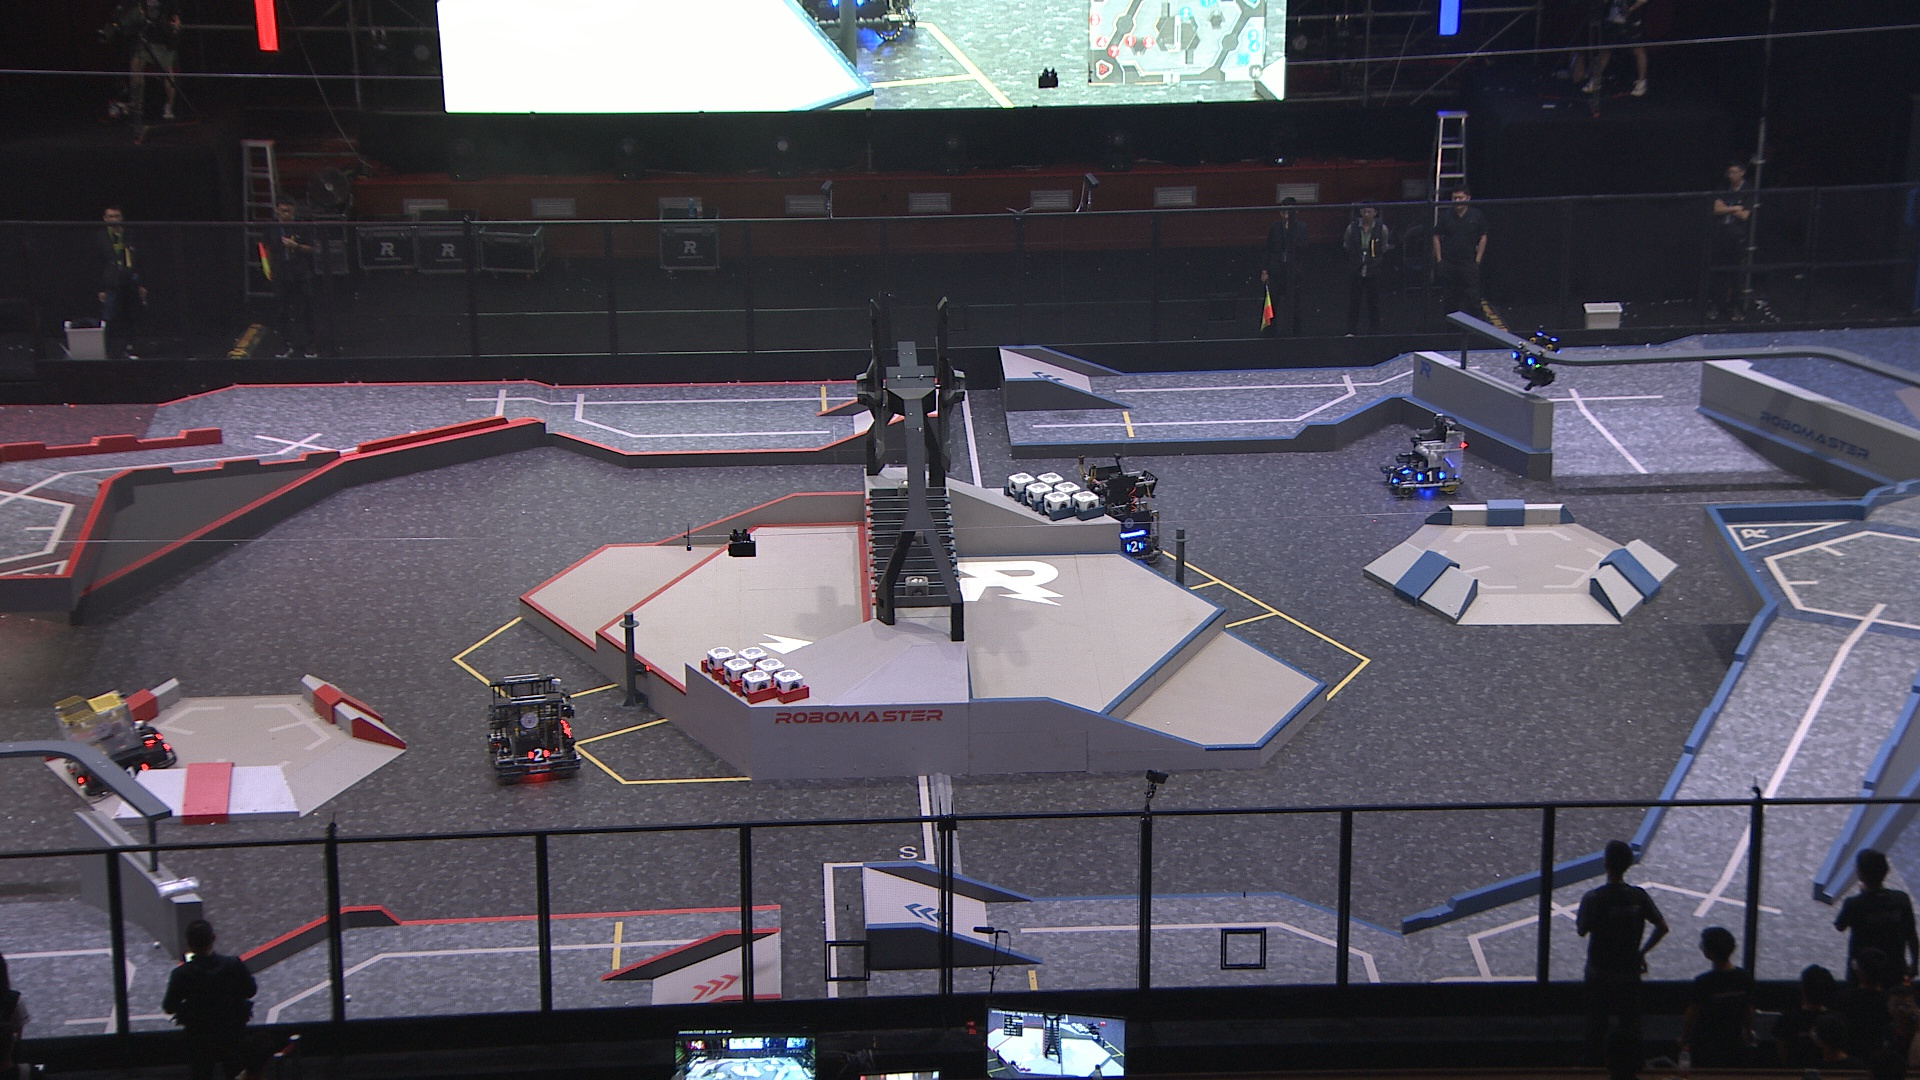armor: (1509, 351, 1538, 368), (140, 727, 158, 752), (120, 764, 149, 778), (1418, 469, 1444, 483), (67, 767, 84, 787), (1125, 538, 1145, 555), (526, 746, 549, 761), (1385, 471, 1400, 487), (1395, 462, 1408, 476)
car: (57, 687, 171, 799), (483, 673, 583, 781), (1077, 463, 1168, 571), (1381, 411, 1468, 498)
watcher: (1505, 328, 1561, 394)
